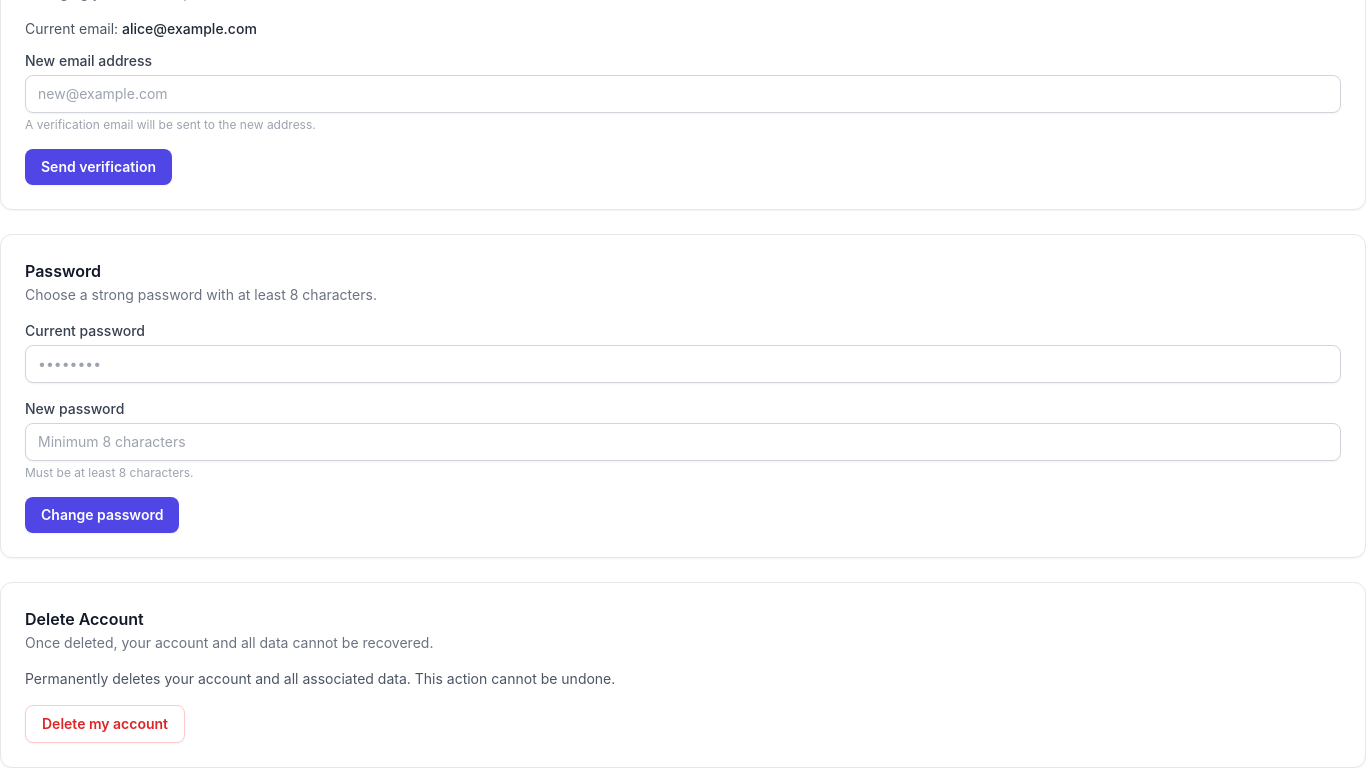
AccountPage › shows error when deletion confirmation email doesn't match
This screenshot has width=1366, height=768.
(page scrolled)
Click the button "Delete my account". click: [105, 724]
box: x1=25 y1=705 x2=185 y2=743
(page scrolled)
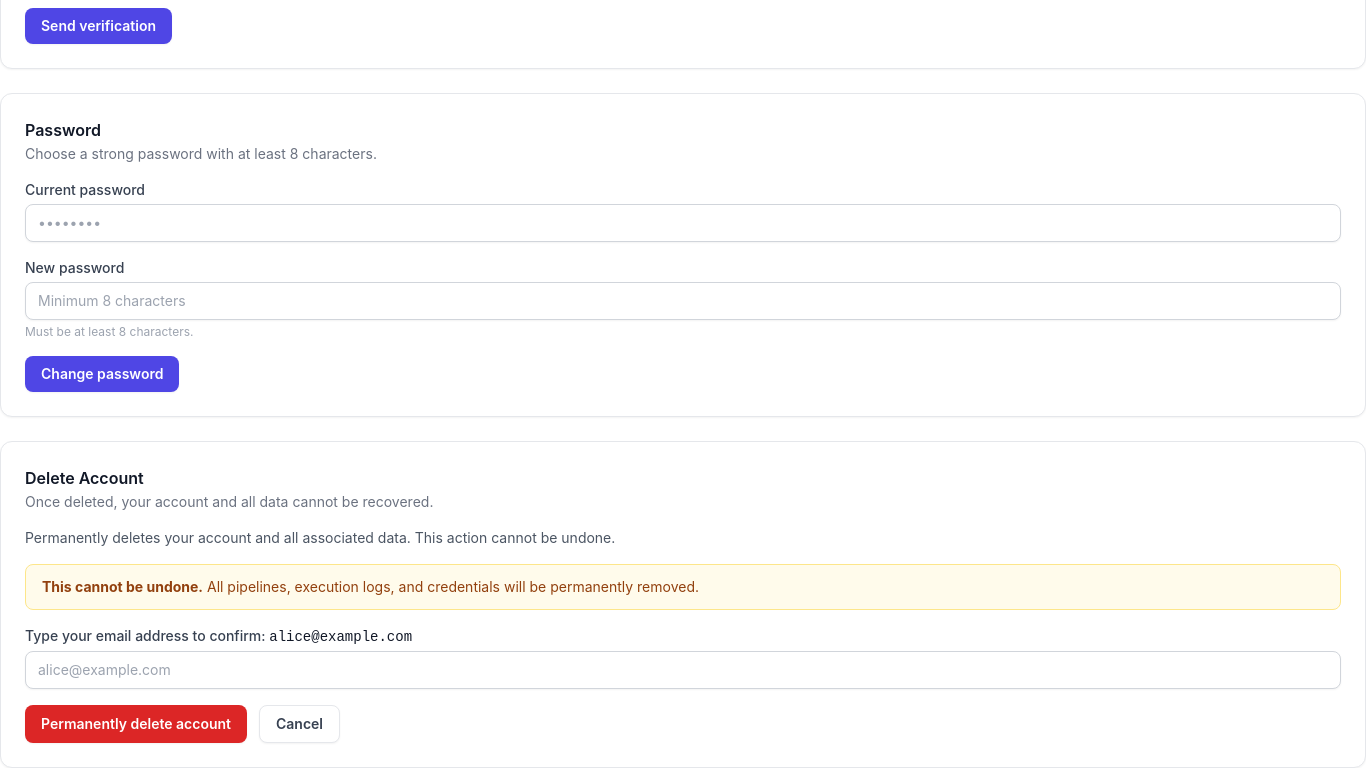
Result: the field labelled "Type your email address to confirm: alice@example.com" is shown
Type "wrong@email.com" into the field labelled "Type your email address to confirm: alice@example.com". click: [683, 670]
box: x1=25 y1=651 x2=1341 y2=689
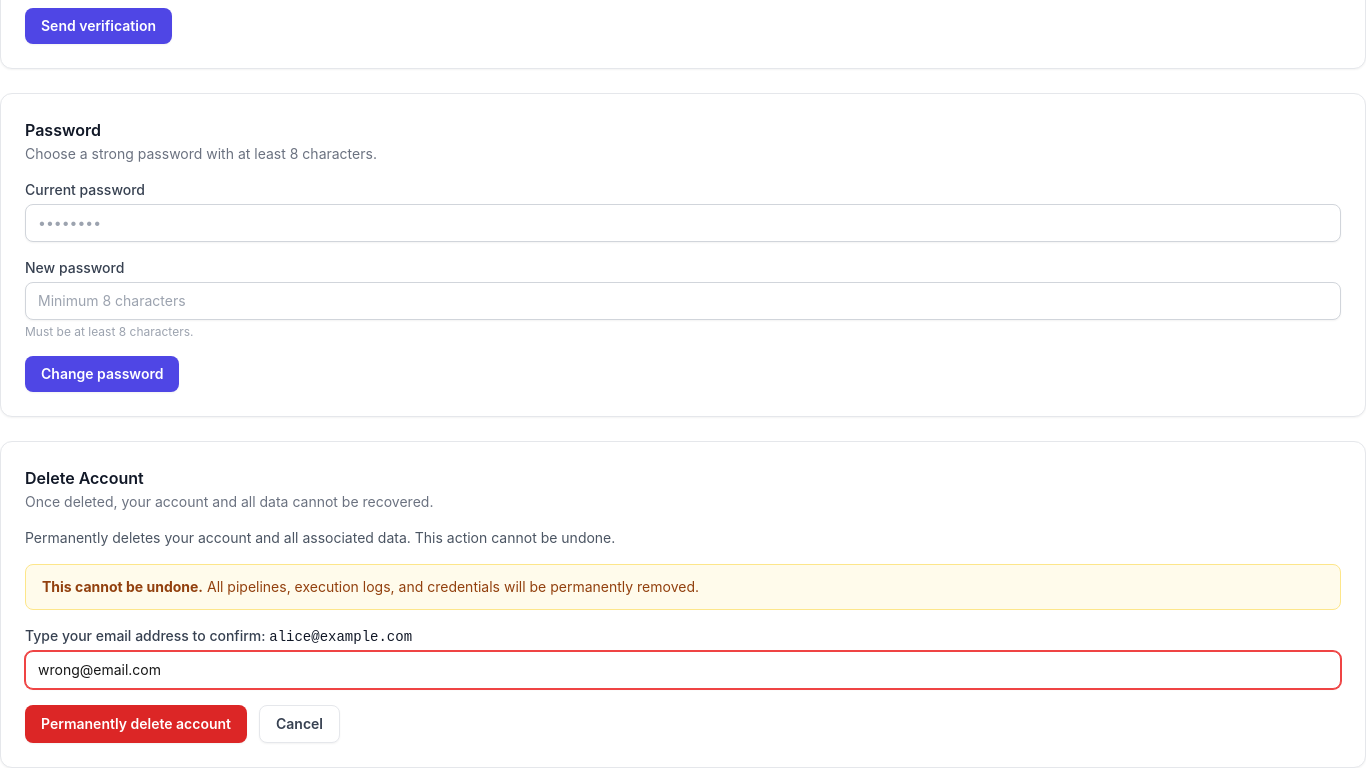
Click the button "Permanently delete account". click: [136, 724]
box: x1=25 y1=705 x2=247 y2=743
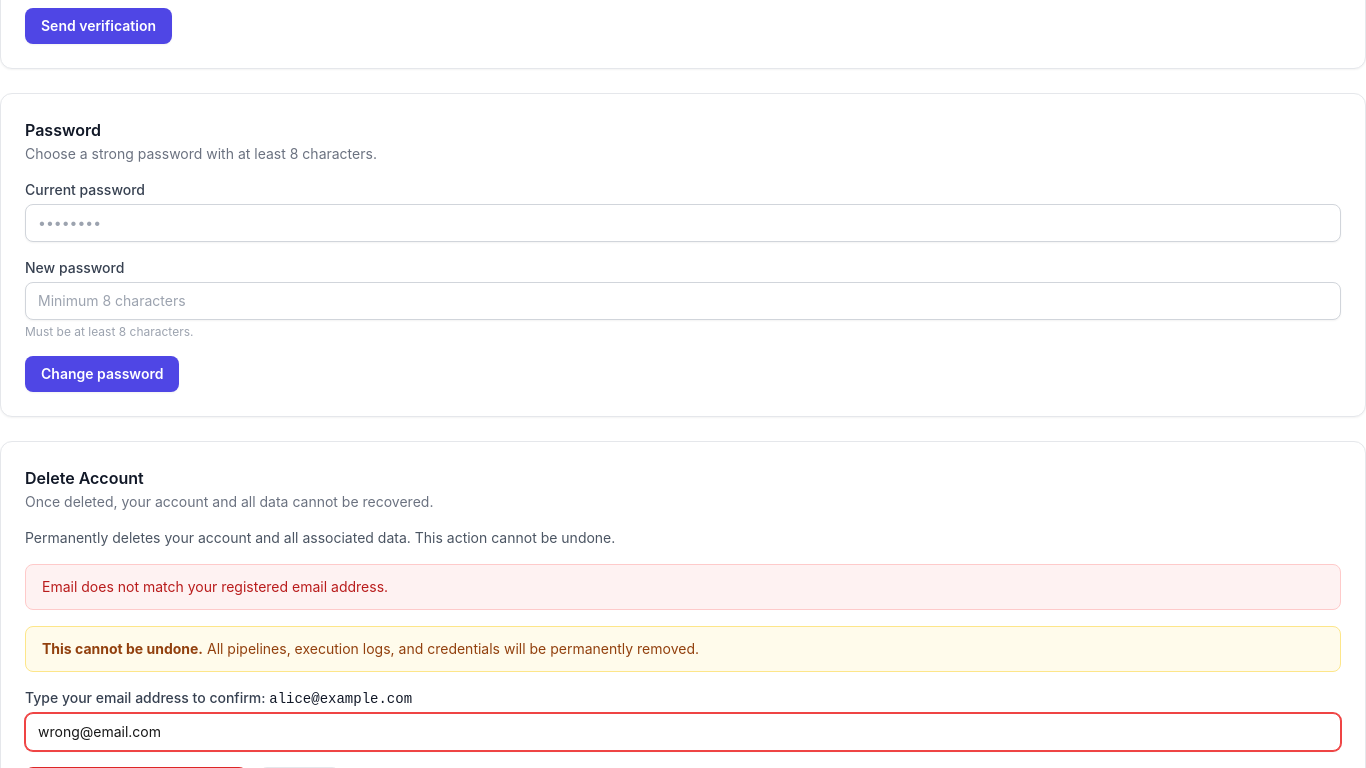
Result: the message shows "Email does not match" at x1=42 y1=578 x2=388 y2=595
